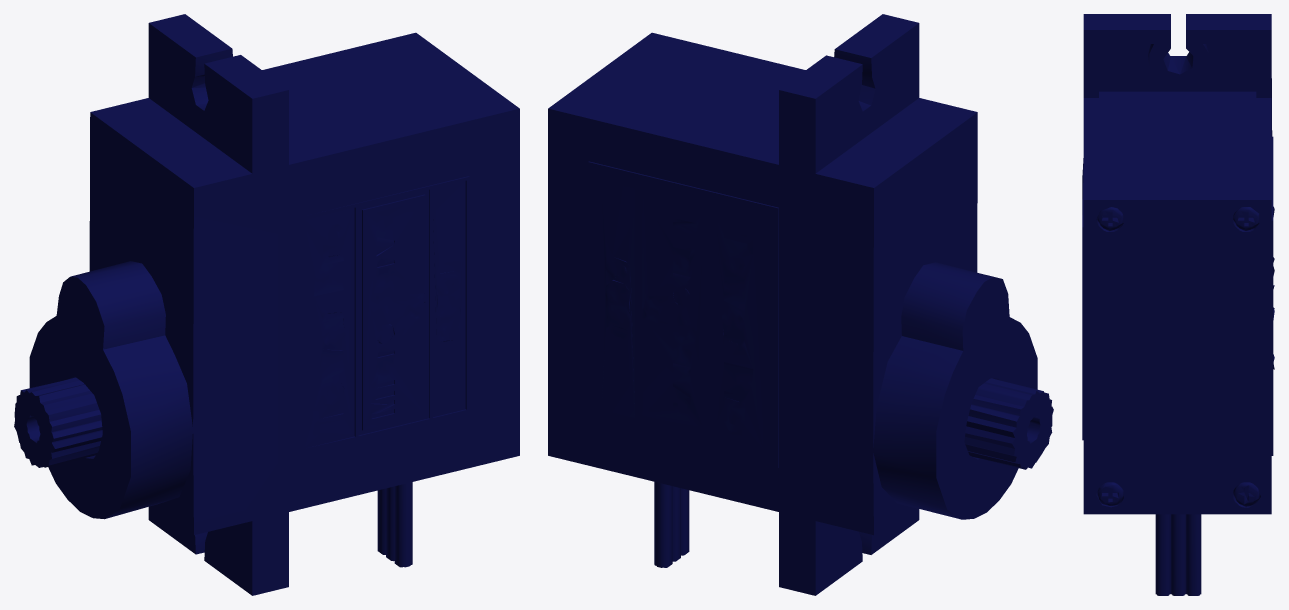
The picture shows the model from 3 angles, left to right: view 1: azimuth 30°, elevation 25°; view 2: azimuth 150°, elevation 25°; view 3: azimuth 270°, elevation 25°; orthographic projection. The views are drawn at different scales.
Visible parts, largest first — view 1: robot; view 2: robot; view 3: robot.
Boxes of the visible parts, x1,y1,x2,y2 form: robot: (14,14,519,595); robot: (548,14,1053,595); robot: (1082,14,1274,595).
Size of the model in its own units: 0.0298 by 0.0126 by 0.0356.
